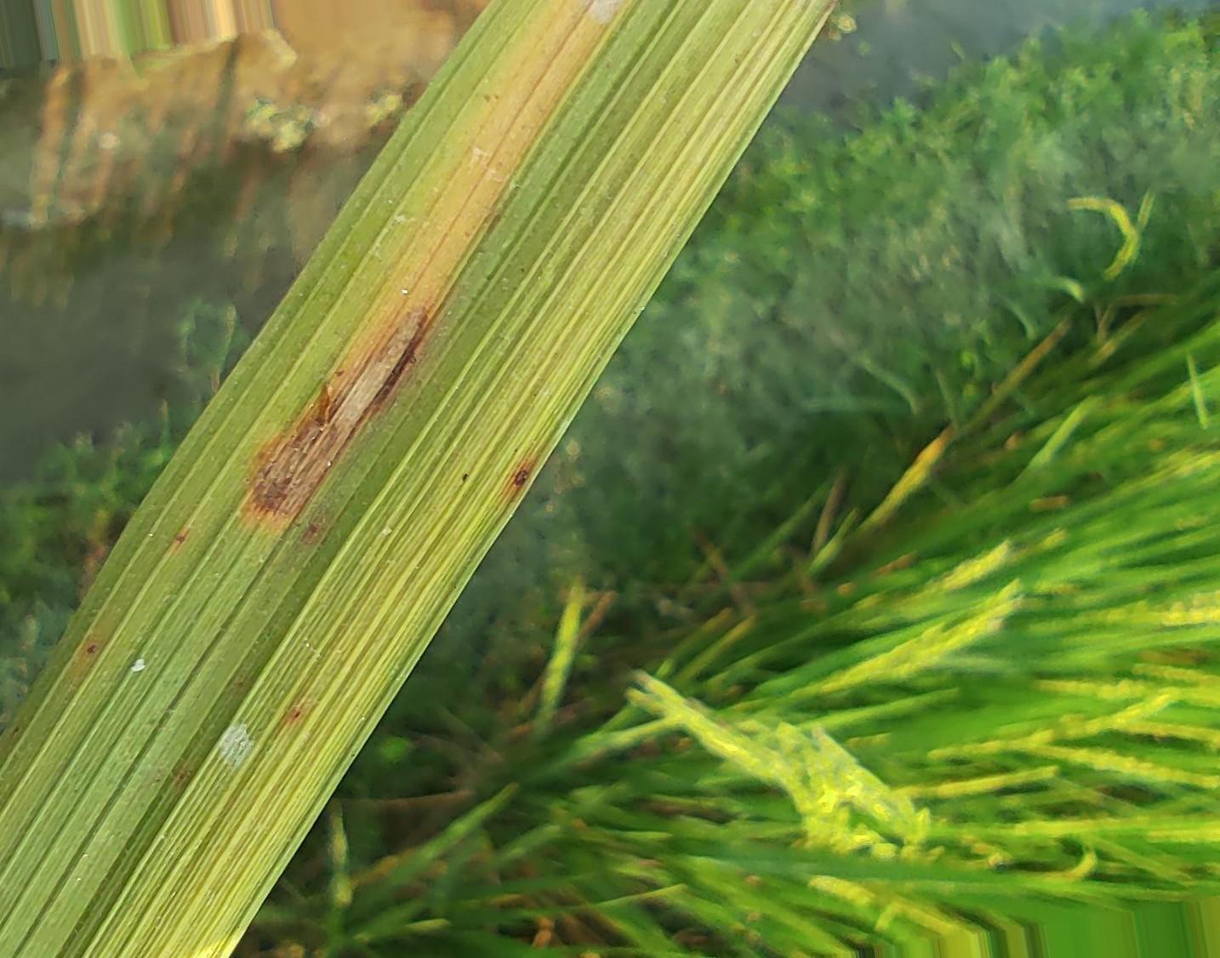LEAF: (0, 0, 832, 957)
LEAF BLAST: (243, 294, 441, 524), (503, 462, 537, 495)
